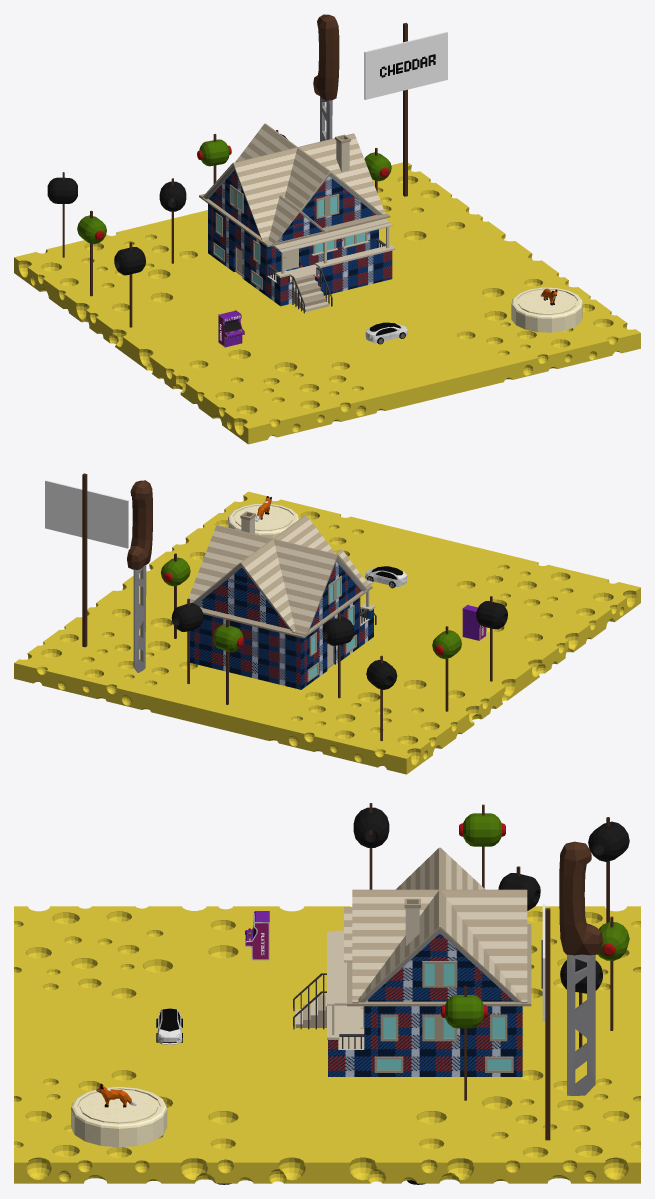
3 renders of one model, top to bottom at view 1: azimuth 30°, elevation 25°; view 2: azimuth 150°, elevation 25°; view 3: azimuth 270°, elevation 25°, orthographic. The views are drawn at different scales.
Visible parts, largest first — view 1: Cube.022, Cube.171, Cube.023, Cylinder.016, Cube.024, Sphere.017, Sphere.016, Sphere.020, Sphere.018, OBJRANDOM_ARCADE, Sphere.022, VEHICLES_TESLA (+1 smaller); view 2: Cube.022, Cube.171, Cube.023, Cube.024, Cylinder.016, Sphere.017, Sphere.020, Sphere.021, Sphere.016, Sphere.018, Sphere.022, Sphere.019 (+2 smaller); view 3: Cube.022, Cube.171, Cube.024, Cylinder.016, Cube.023, Sphere.019, Sphere.016, Sphere.018, Sphere.017, Sphere.022, OBJRANDOM_ARCADE, VEHICLES_TESLA (+2 smaller).
Part boxes in pixels (x1,y1,x2,y2): Cube.022: [14, 162, 640, 444]; Cube.171: [199, 123, 395, 313]; Cube.023: [364, 23, 447, 196]; Cylinder.016: [511, 287, 582, 332]; Cube.024: [313, 14, 339, 141]; Sphere.017: [114, 242, 145, 327]; Sphere.016: [47, 172, 77, 257]; Sphere.020: [159, 178, 186, 263]; Sphere.018: [77, 210, 106, 296]; OBJRANDOM_ARCADE: [218, 310, 244, 347]; Sphere.022: [197, 134, 231, 183]; VEHICLES_TESLA: [365, 322, 407, 344]; Cube.022: [14, 491, 640, 774]; Cube.171: [184, 511, 376, 689]; Cube.023: [45, 473, 128, 647]; Cube.024: [127, 480, 152, 672]; Cylinder.016: [228, 503, 298, 538]; Sphere.017: [476, 596, 507, 681]; Sphere.020: [322, 612, 354, 698]; Sphere.021: [171, 598, 203, 683]; Sphere.016: [366, 655, 397, 741]; Sphere.018: [432, 626, 461, 711]; Sphere.022: [212, 619, 244, 704]; Sphere.019: [160, 553, 190, 638]; Cube.022: [14, 906, 640, 1183]; Cube.171: [293, 847, 531, 1076]; Cube.024: [559, 841, 602, 1095]; Cylinder.016: [71, 1086, 167, 1147]; Cube.023: [541, 904, 550, 1140]; Sphere.019: [441, 986, 487, 1100]; Sphere.016: [588, 817, 629, 922]; Sphere.018: [459, 804, 505, 887]; Sphere.017: [353, 803, 389, 889]; Sphere.022: [598, 916, 629, 1030]; OBJRANDOM_ARCADE: [245, 911, 269, 960]; VEHICLES_TESLA: [156, 1008, 182, 1044].
Bounding box in the file's own units: 3917 × 1985 × 4000.
40 materials, 4 textured.
